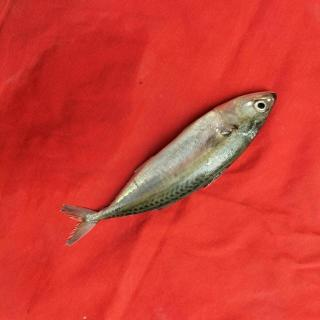Ikan: (47, 79, 289, 245)
